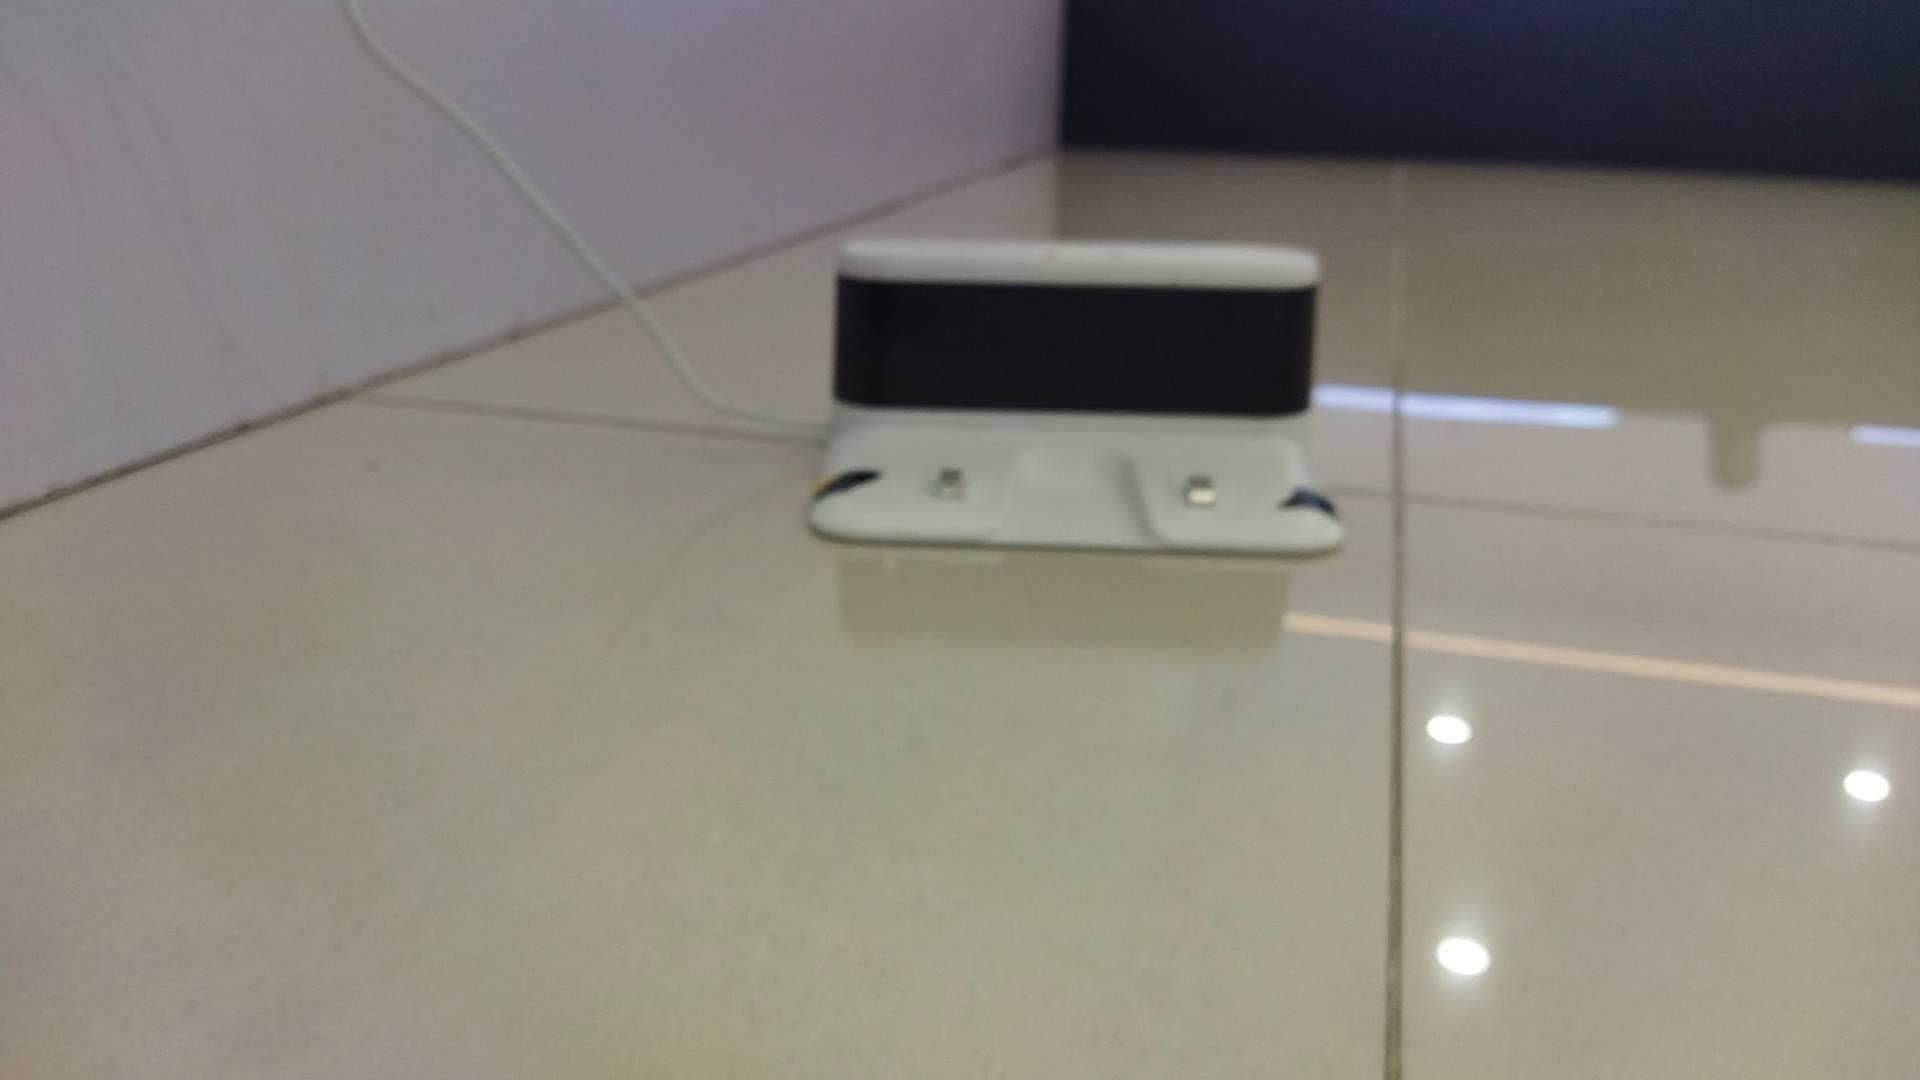recharge seat: (804, 237, 1352, 559)
